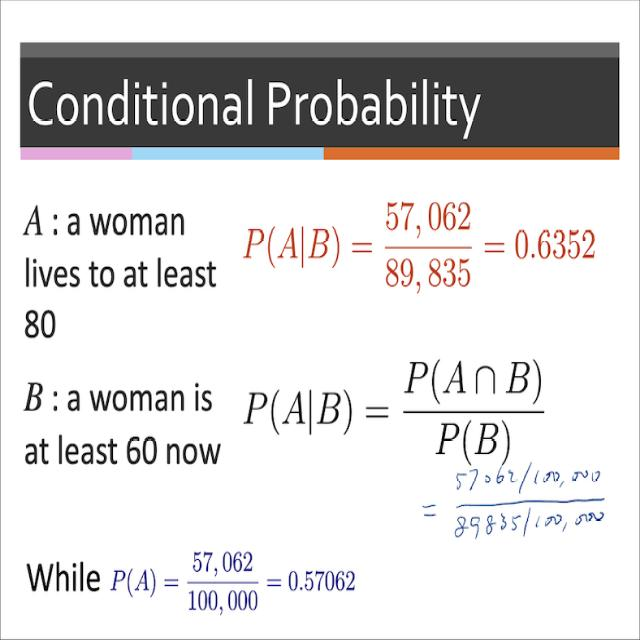equations: (238, 196, 606, 300), (232, 350, 553, 468), (105, 540, 368, 622)
